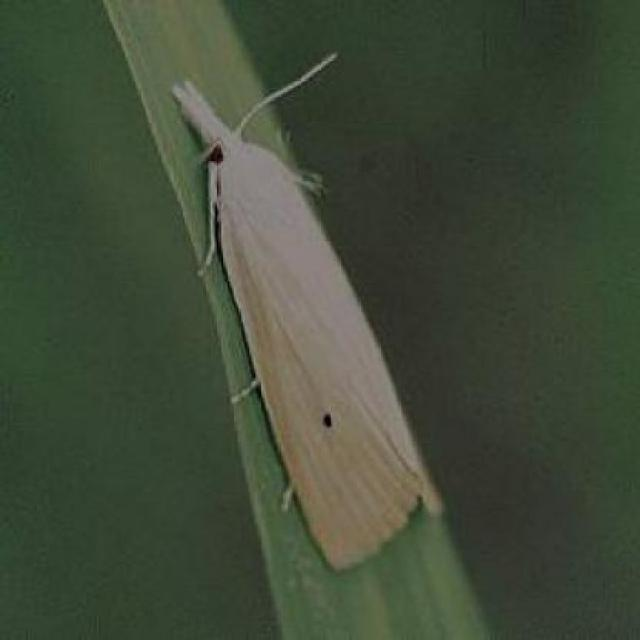stem-borer: (168, 48, 450, 577)
